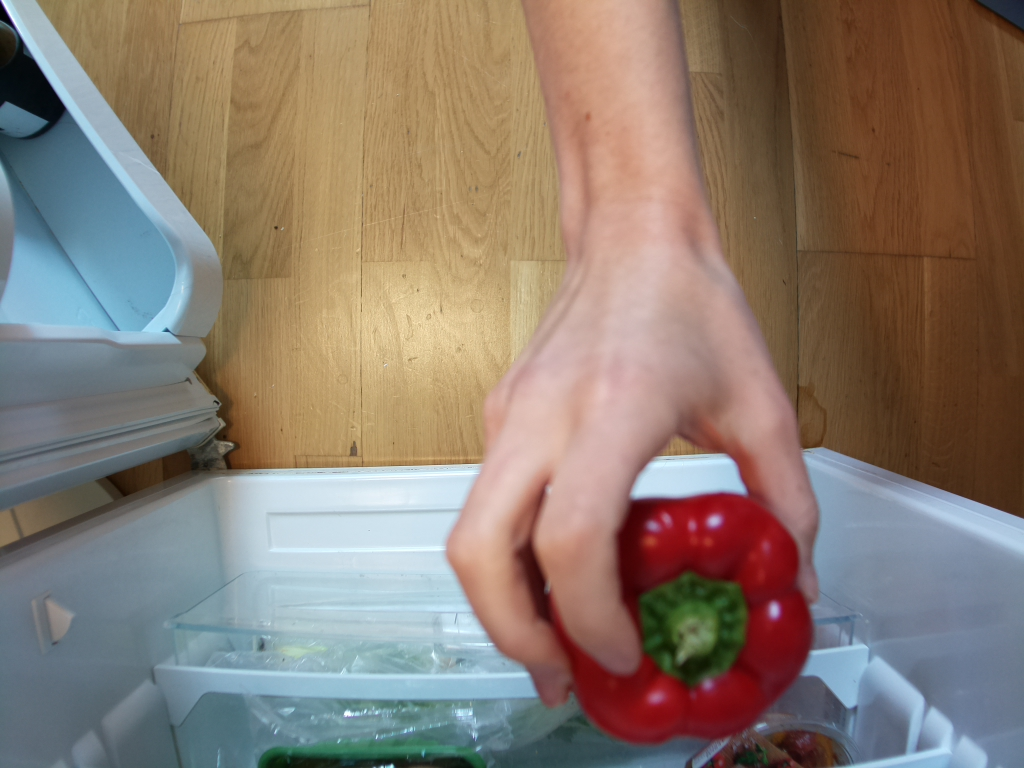pepper: (555, 490, 814, 746)
